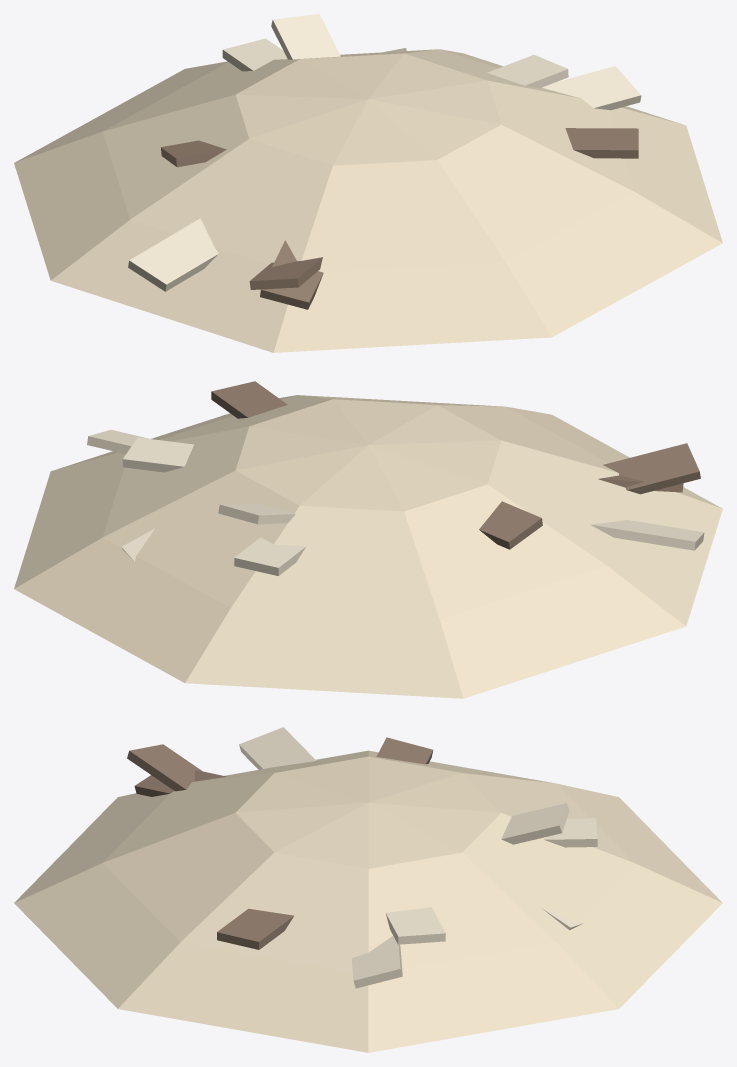
File: prop-bark-shaving-pile.fbx
3 renders of one model, top to bottom at view 1: azimuth 30°, elevation 25°; view 2: azimuth 150°, elevation 25°; view 3: azimuth 270°, elevation 25°, orthographic. The views are drawn at different scales.
Parts seen in each view (by area): view 1: prop-bark-shaving-pile; view 2: prop-bark-shaving-pile; view 3: prop-bark-shaving-pile.
Boxes of the visible parts, box(x1,y1,x2,y2) form: prop-bark-shaving-pile: box(14, 14, 722, 352); prop-bark-shaving-pile: box(14, 381, 722, 698); prop-bark-shaving-pile: box(14, 727, 722, 1052).
Bounding box in the file's own units: 32 × 5.14 × 32.
